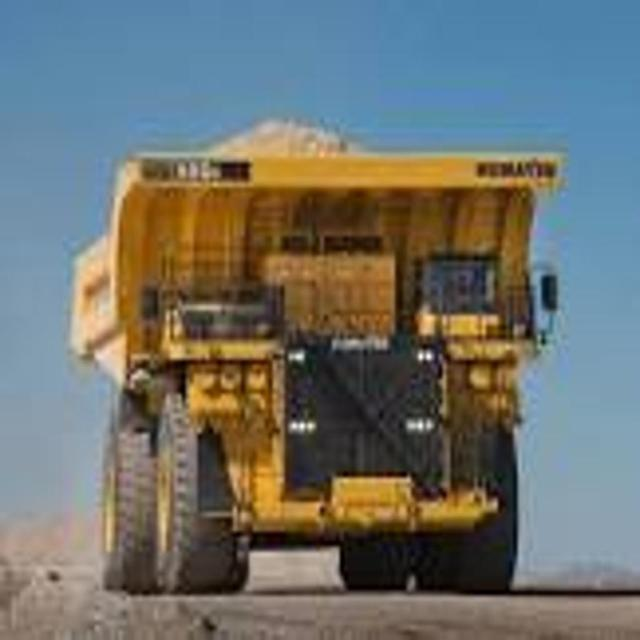dump_truck: (71, 110, 568, 604)
